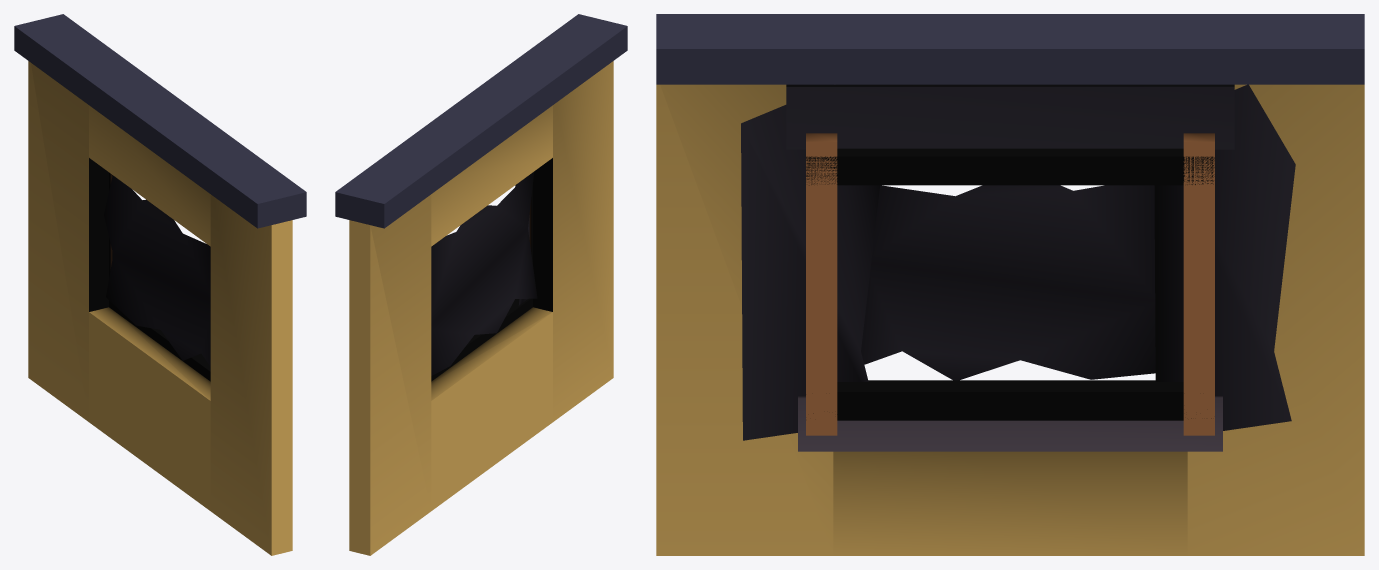
The model's file is decay.burned-facade.house.lod2.glb.
3 views of the same model, side by side, from view 1: azimuth 30°, elevation 25°; view 2: azimuth 150°, elevation 25°; view 3: azimuth 270°, elevation 25° (orthographic). The views are drawn at different scales.
Parts seen in each view (by area): view 1: body, roof; view 2: body, roof; view 3: body, roof.
Part boxes in pixels (bbox=[...]): body: bbox=[28, 61, 292, 555]; roof: bbox=[14, 14, 306, 228]; body: bbox=[349, 61, 613, 555]; roof: bbox=[335, 14, 627, 228]; body: bbox=[656, 84, 1364, 555]; roof: bbox=[656, 14, 1364, 84].
Size of the model in its own units: 0.43 by 2.9 by 3.6.
